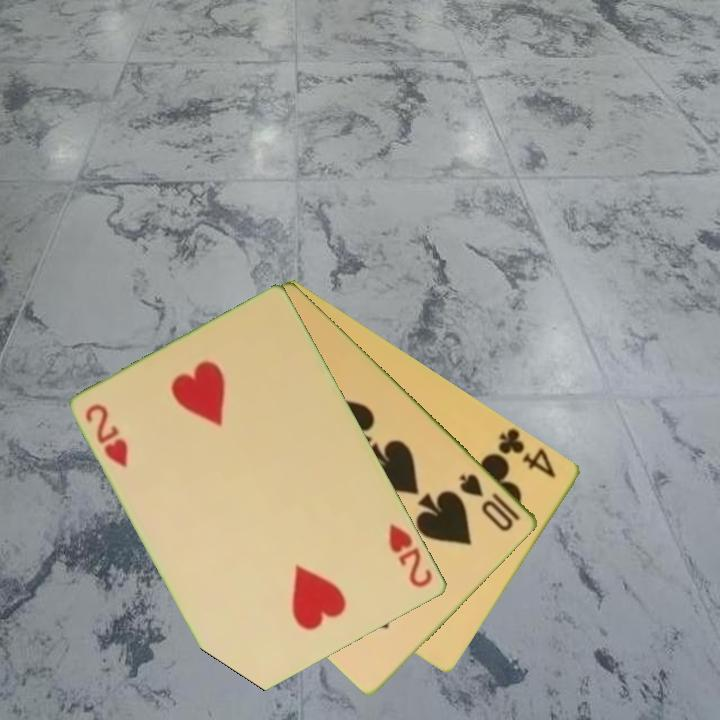10s: (456, 470, 523, 535)
2h: (385, 520, 436, 591), (82, 400, 132, 471)
4c: (495, 425, 560, 481)
